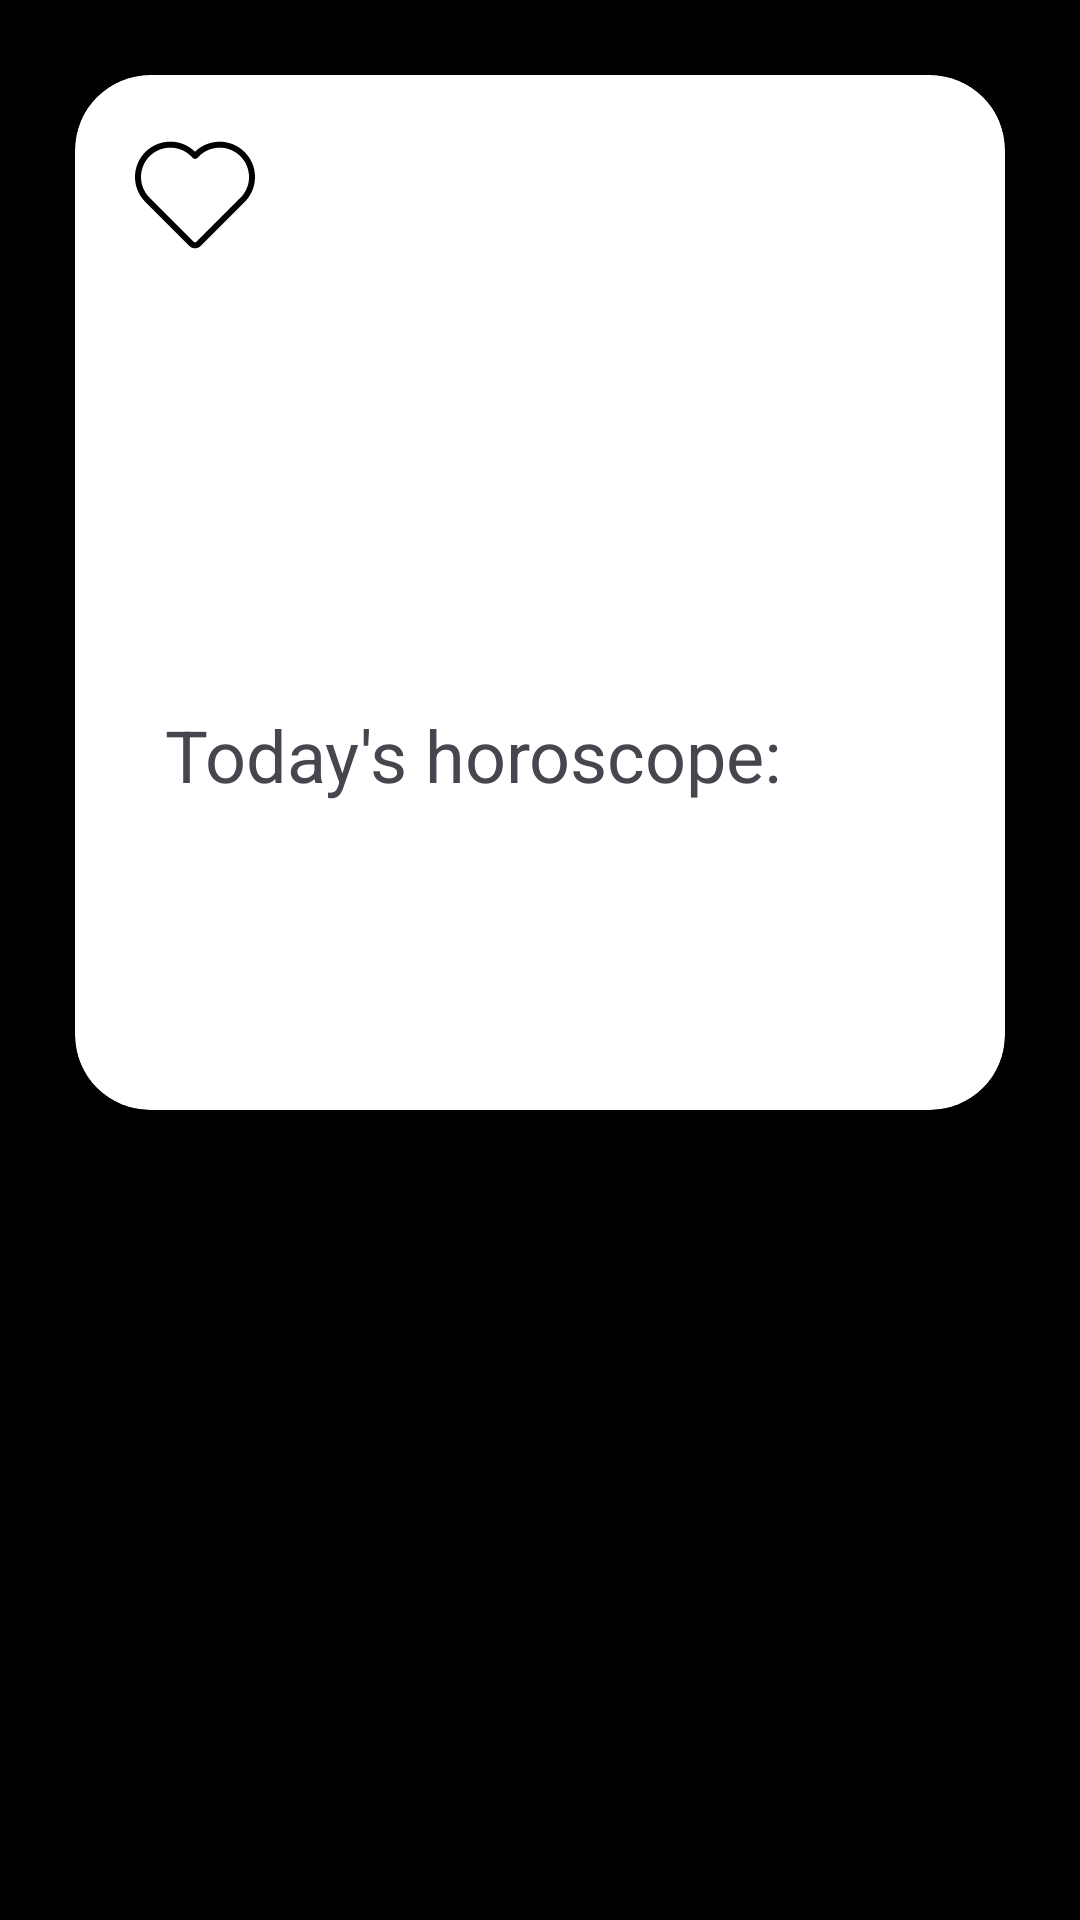

Where icons sit on this 1080px x 1920px app screen, as (x1, y1, x2, y2):
Favorite: (135, 141, 255, 249)
